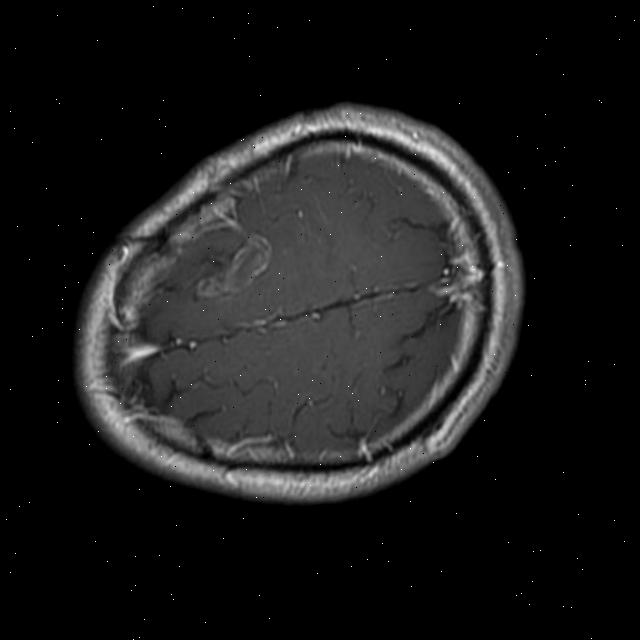Glioma: (185, 227, 278, 302)
